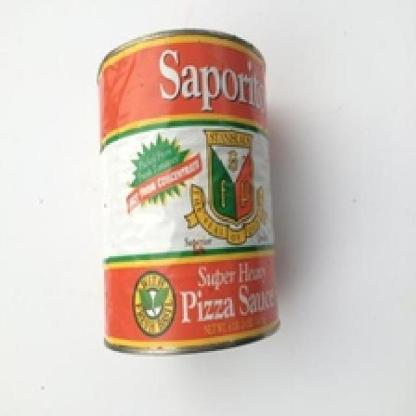Can: (96, 27, 282, 359)
